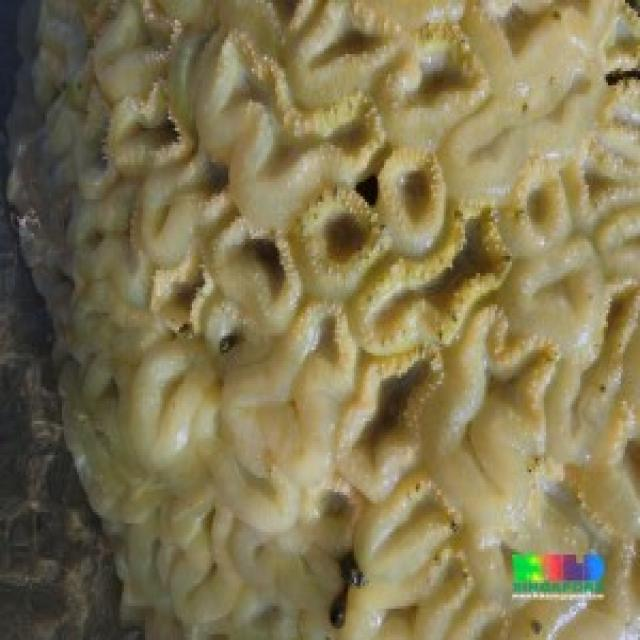Bleached: (22, 1, 639, 638)
